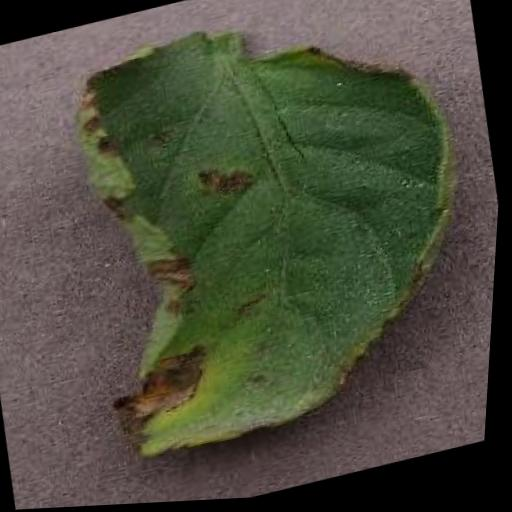Bacterial Spot: (33, 0, 512, 490)
